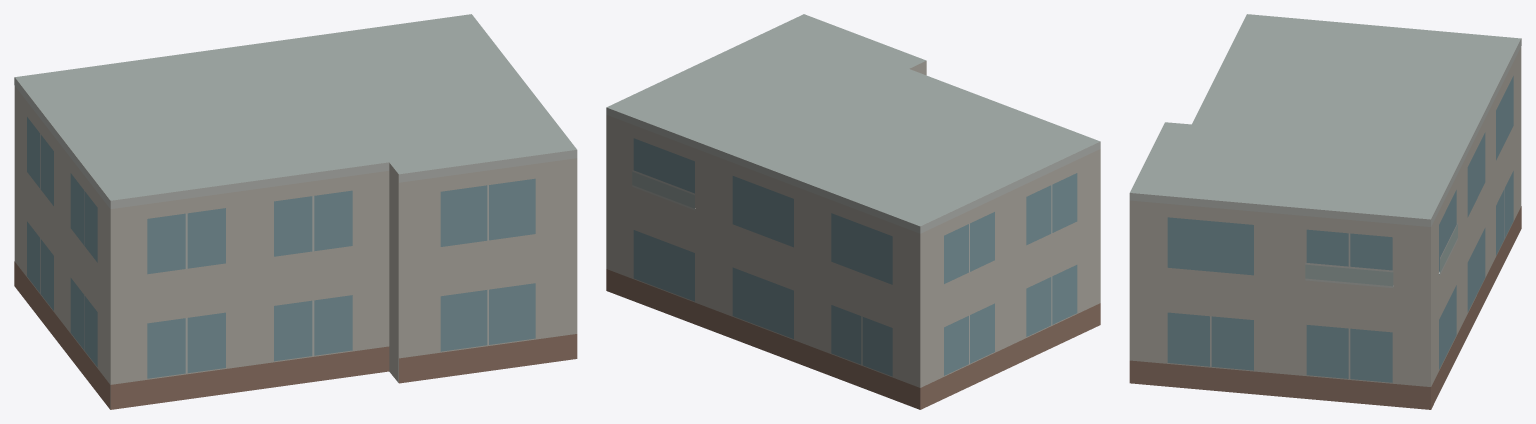
File: survey-upis-32711414.glb
The picture shows the model from 3 angles, left to right: view 1: azimuth 30°, elevation 25°; view 2: azimuth 150°, elevation 25°; view 3: azimuth 270°, elevation 25°; orthographic projection. The views are drawn at different scales.
Parts seen in each view (by area): view 1: survey-upis-32711414.tmp; view 2: survey-upis-32711414.tmp; view 3: survey-upis-32711414.tmp.
Part boxes in pixels (<box>): survey-upis-32711414.tmp: <box>14,14,577,409</box>; survey-upis-32711414.tmp: <box>606,14,1100,409</box>; survey-upis-32711414.tmp: <box>1129,14,1521,409</box>.
Bounding box in the file's own units: 14.13 × 6.1 × 11.38.
